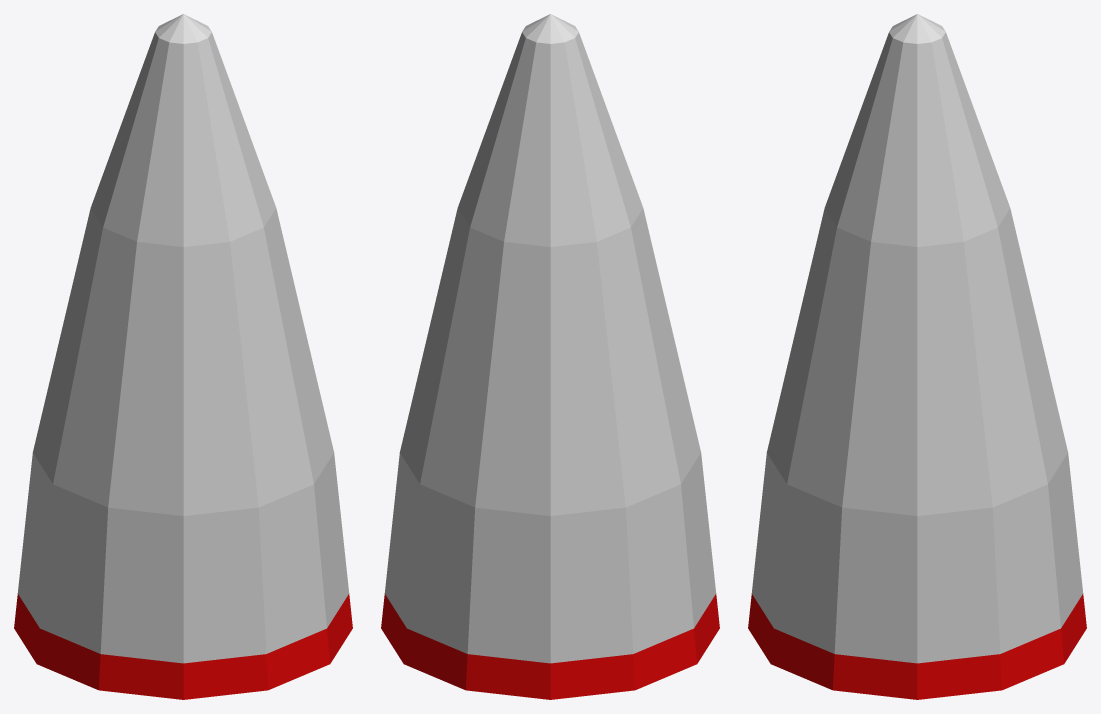
File: Head01.gltf
3 renders of one model, left to right at view 1: azimuth 30°, elevation 25°; view 2: azimuth 150°, elevation 25°; view 3: azimuth 270°, elevation 25°, orthographic.
Visible parts, largest first — view 1: Head01; view 2: Head01; view 3: Head01.
Part boxes in pixels (left/top/right/bottom): Head01: left=14, top=14, right=352, bottom=699; Head01: left=381, top=14, right=719, bottom=699; Head01: left=748, top=14, right=1086, bottom=699.
Bounding box in the file's own units: 0.5 × 1 × 0.5.
